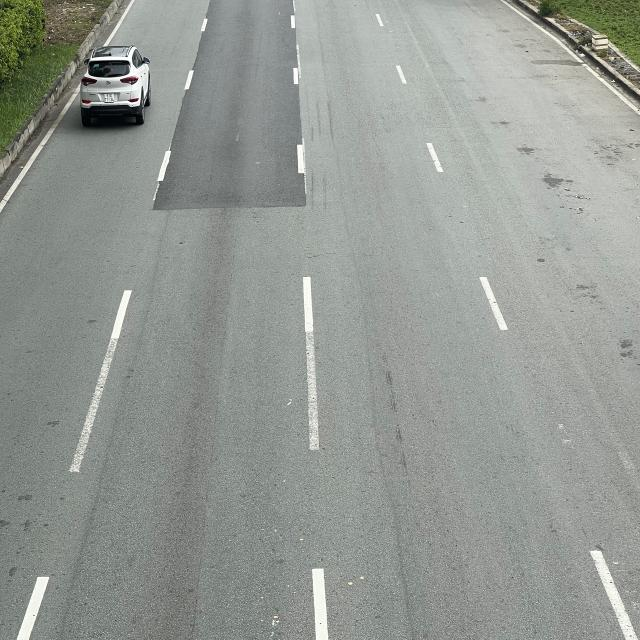car: (77, 47, 155, 122)
